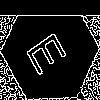E: (25, 25, 75, 78)
